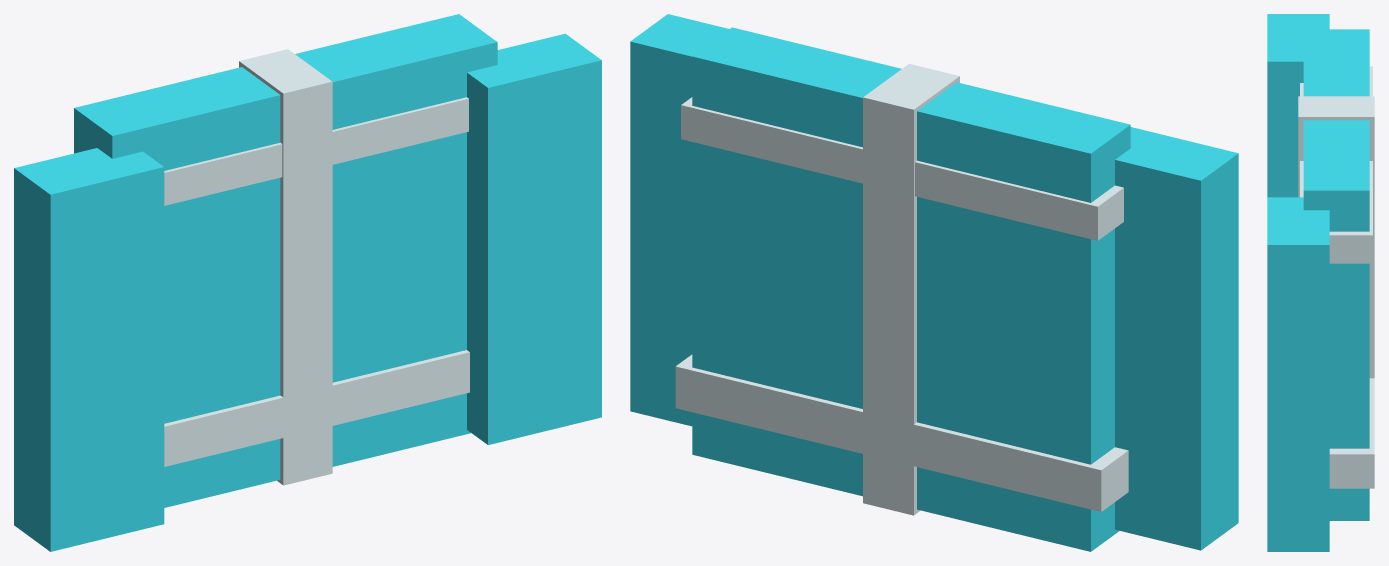
File: sm_gloo_wall.glb
3 renders of one model, left to right at view 1: azimuth 30°, elevation 25°; view 2: azimuth 150°, elevation 25°; view 3: azimuth 270°, elevation 25°, orthographic. The views are drawn at different scales.
Visible parts, largest first — view 1: gloo_core, gloo_ribs; view 2: gloo_core, gloo_ribs; view 3: gloo_core, gloo_ribs.
Part boxes in pixels (<box>): gloo_core: <box>14,14,601,551</box>; gloo_ribs: <box>164,49,469,485</box>; gloo_core: <box>630,14,1238,551</box>; gloo_ribs: <box>675,63,1128,515</box>; gloo_core: <box>1267,14,1369,551</box>; gloo_ribs: <box>1298,66,1374,488</box>.
Size of the model in its own units: 3.15 by 2.14 by 0.62.
